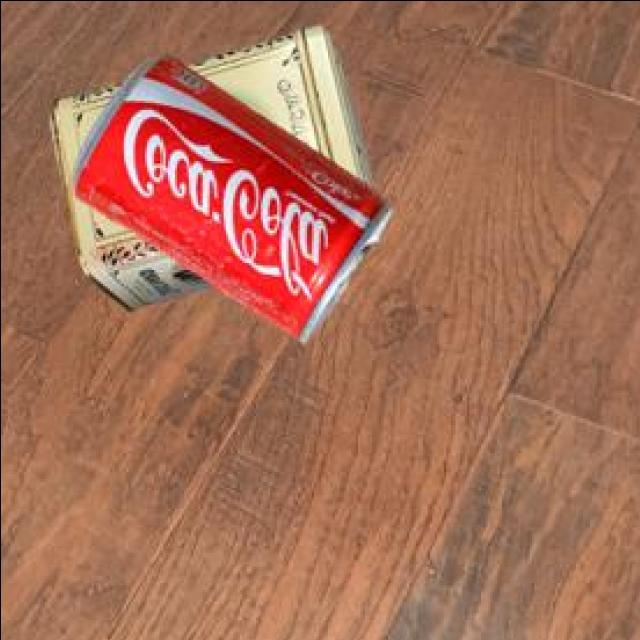logam: (54, 22, 377, 307), (73, 52, 395, 337)
